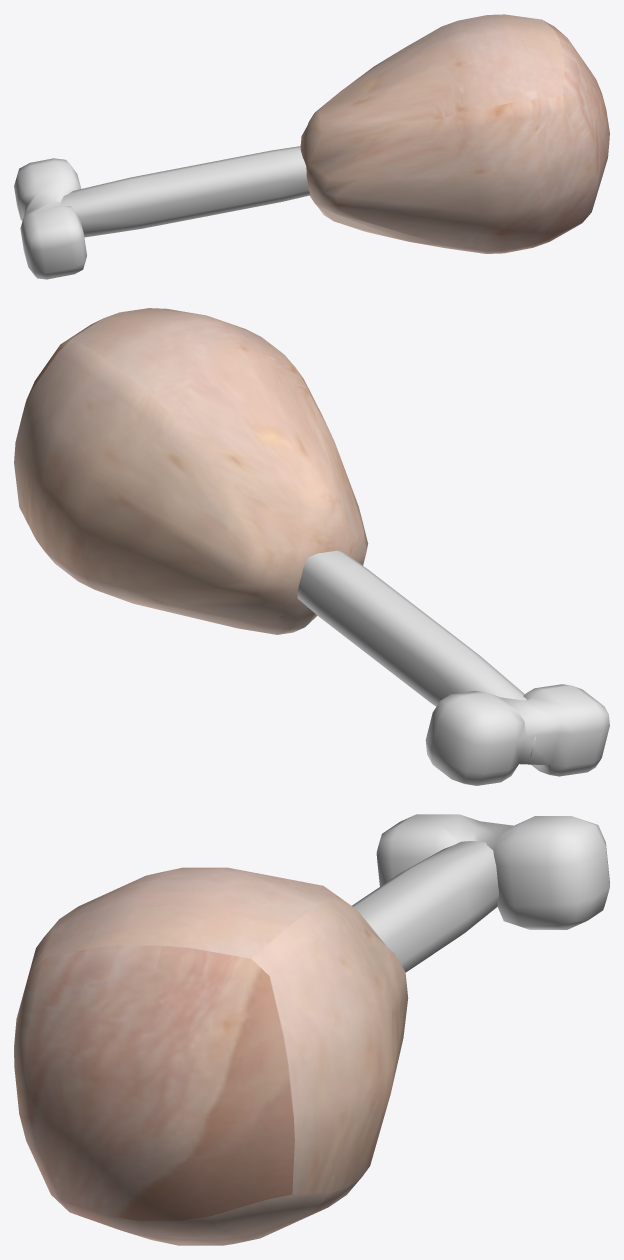
File: Pollo.fbx
3 renders of one model, top to bottom at view 1: azimuth 30°, elevation 25°; view 2: azimuth 150°, elevation 25°; view 3: azimuth 270°, elevation 25°, orthographic. The views are drawn at different scales.
Parts seen in each view (by area): view 1: Pollo; view 2: Pollo; view 3: Pollo.
Part boxes in pixels (box(x1,y1,x2,y2)): Pollo: box(14, 14, 609, 279); Pollo: box(14, 308, 609, 785); Pollo: box(14, 814, 609, 1245).
Bounding box in the file's own units: 515 × 203 × 319.
2 materials, 1 textured.
